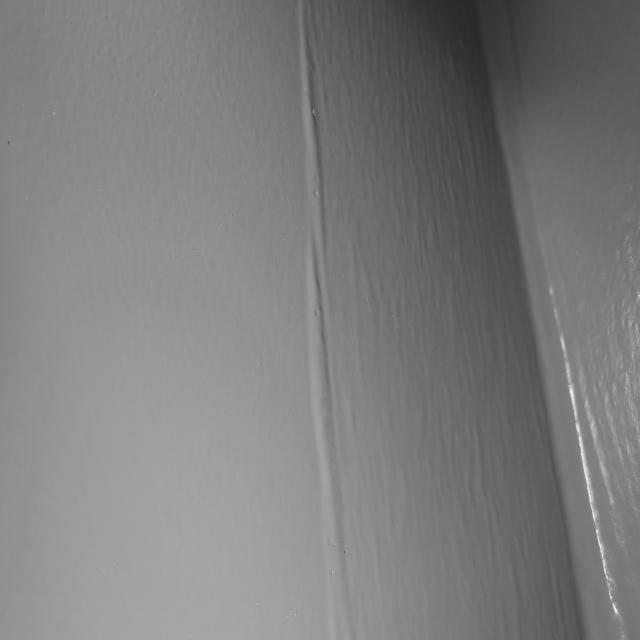paint drips: (290, 0, 364, 640)
